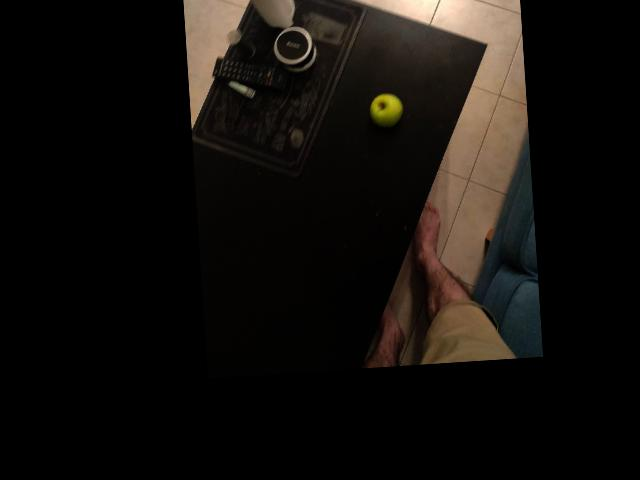apple: (360, 38, 415, 86)
